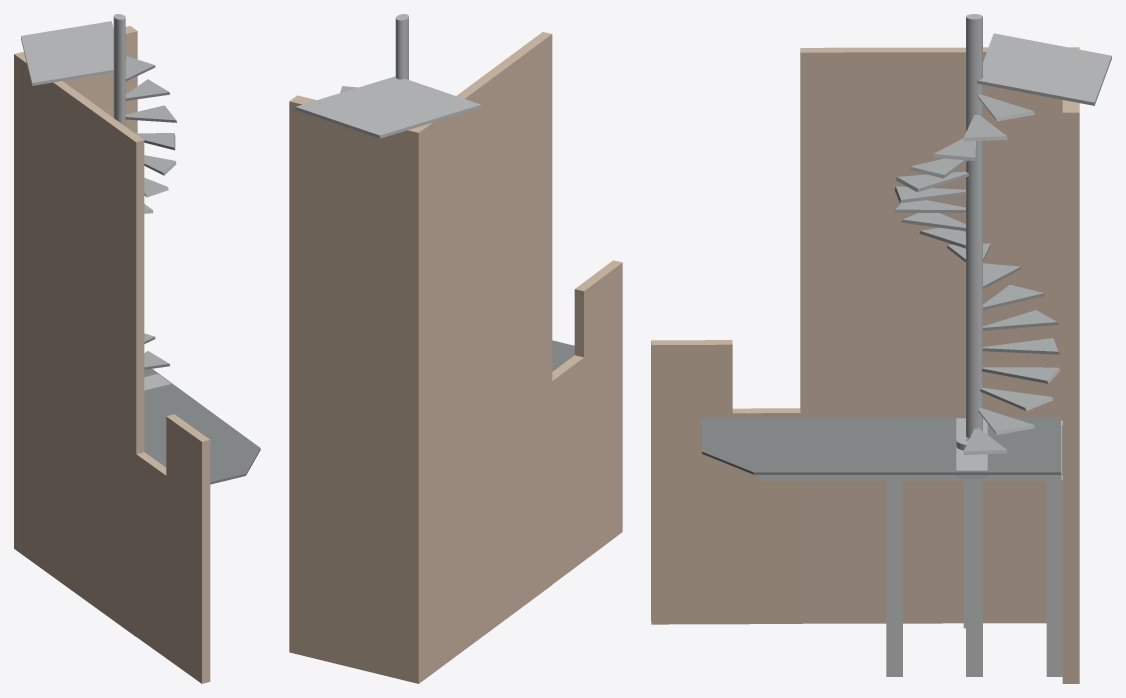
Rendered from accssso-dal-bagno-CJj86eNP.glb.
3 views of the same model, side by side, from view 1: azimuth 30°, elevation 25°; view 2: azimuth 150°, elevation 25°; view 3: azimuth 270°, elevation 25° (orthographic). The views are drawn at different scales.
Visible parts, largest first — view 1: Mesh_Mesh_head_geo.001_lambert2SG.001; view 2: Mesh_Mesh_head_geo.001_lambert2SG.001; view 3: Mesh_Mesh_head_geo.001_lambert2SG.001.
Part boxes in pixels (bbox=[...]): Mesh_Mesh_head_geo.001_lambert2SG.001: bbox=[14, 14, 260, 683]; Mesh_Mesh_head_geo.001_lambert2SG.001: bbox=[289, 14, 622, 683]; Mesh_Mesh_head_geo.001_lambert2SG.001: bbox=[651, 14, 1111, 683].
Bounding box in the file's own units: 0.0532 × 0.207 × 0.136.
